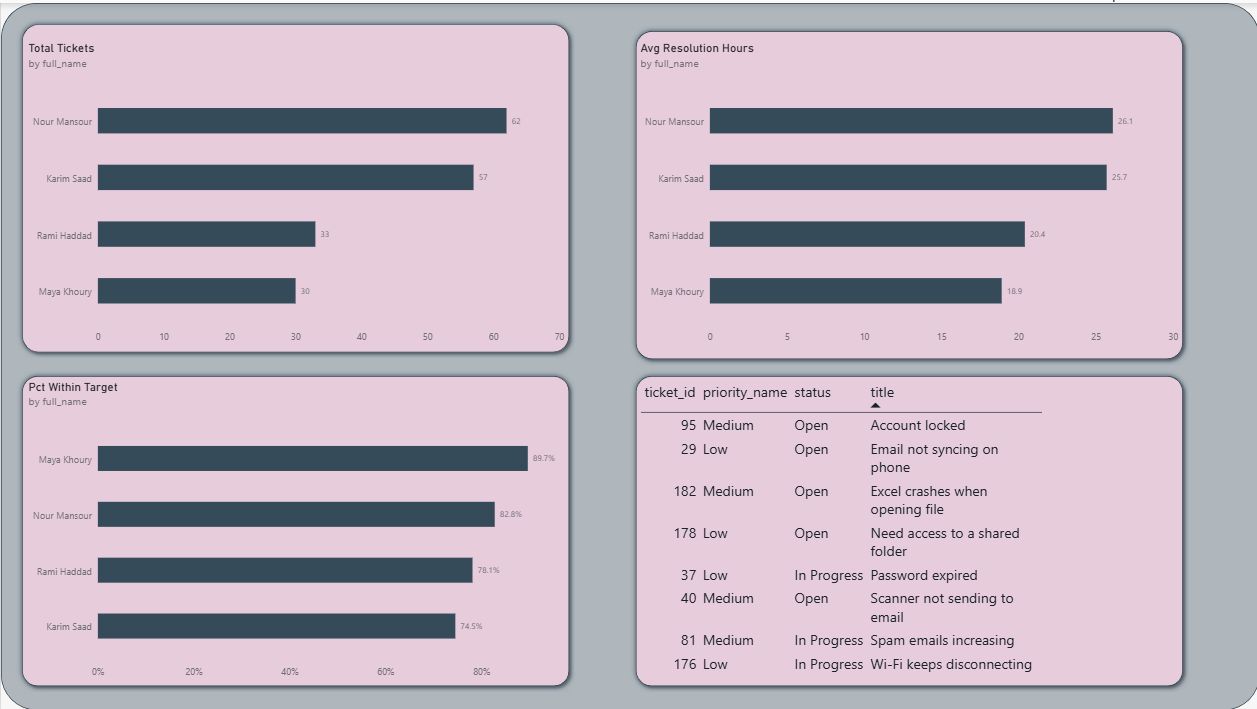

Layout of this report page (visuals, bound fields, positions):
{"tool":"powerbi","page":{"name":"Team Performance","canvas":[1920,1080],"ordinal":1},"visuals":[{"type":"shape","box":[0,0,1921,1079.2],"z":0},{"type":"shape","box":[22.1,22.1,852.9,518.9],"z":1},{"type":"shape","box":[22.1,560.3,852.9,491.3],"z":2},{"type":"shape","box":[960.5,33.1,852.9,518.9],"z":3},{"type":"clusteredBarChart","fields":{"Category":["help_desk technicians.full_name"],"Y":["help_desk tickets.Total Tickets"]},"box":[24.8,44.2,850.1,496.8],"z":4},{"type":"clusteredBarChart","fields":{"Category":["help_desk technicians.full_name"],"Y":["help_desk tickets.Avg Resolution Hours"]},"box":[960.5,44.2,852.9,496.8],"z":5},{"type":"clusteredBarChart","fields":{"Category":["help_desk technicians.full_name"],"Y":["help_desk tickets.Pct Within Target"]},"box":[24.8,560.3,850.1,491.3],"z":6},{"type":"shape","box":[960.5,560.3,852.9,491.3],"z":8},{"type":"tableEx","fields":{"Values":["help_desk tickets.ticket_id","help_desk priorities.priority_name","help_desk tickets.status","help_desk tickets.title"]},"box":[960.5,560.3,852.9,491.3],"z":9}]}

Visuals, with their boxes in screenshot pixels (x1, y1, x2, y2), scaled from the page's 1920x1080 canvas onto the 1257x709 screenshot:
shape: <box>0,0,1256,708</box>
shape: <box>14,15,573,355</box>
shape: <box>14,368,573,690</box>
shape: <box>629,22,1187,362</box>
clusteredBarChart - help_desk technicians.full_name x help_desk tickets.Total Tickets: <box>16,29,573,355</box>
clusteredBarChart - help_desk technicians.full_name x help_desk tickets.Avg Resolution Hours: <box>629,29,1187,355</box>
clusteredBarChart - help_desk technicians.full_name x help_desk tickets.Pct Within Target: <box>16,368,573,690</box>
shape: <box>629,368,1187,690</box>
tableEx - help_desk tickets.ticket_id x help_desk priorities.priority_name: <box>629,368,1187,690</box>
